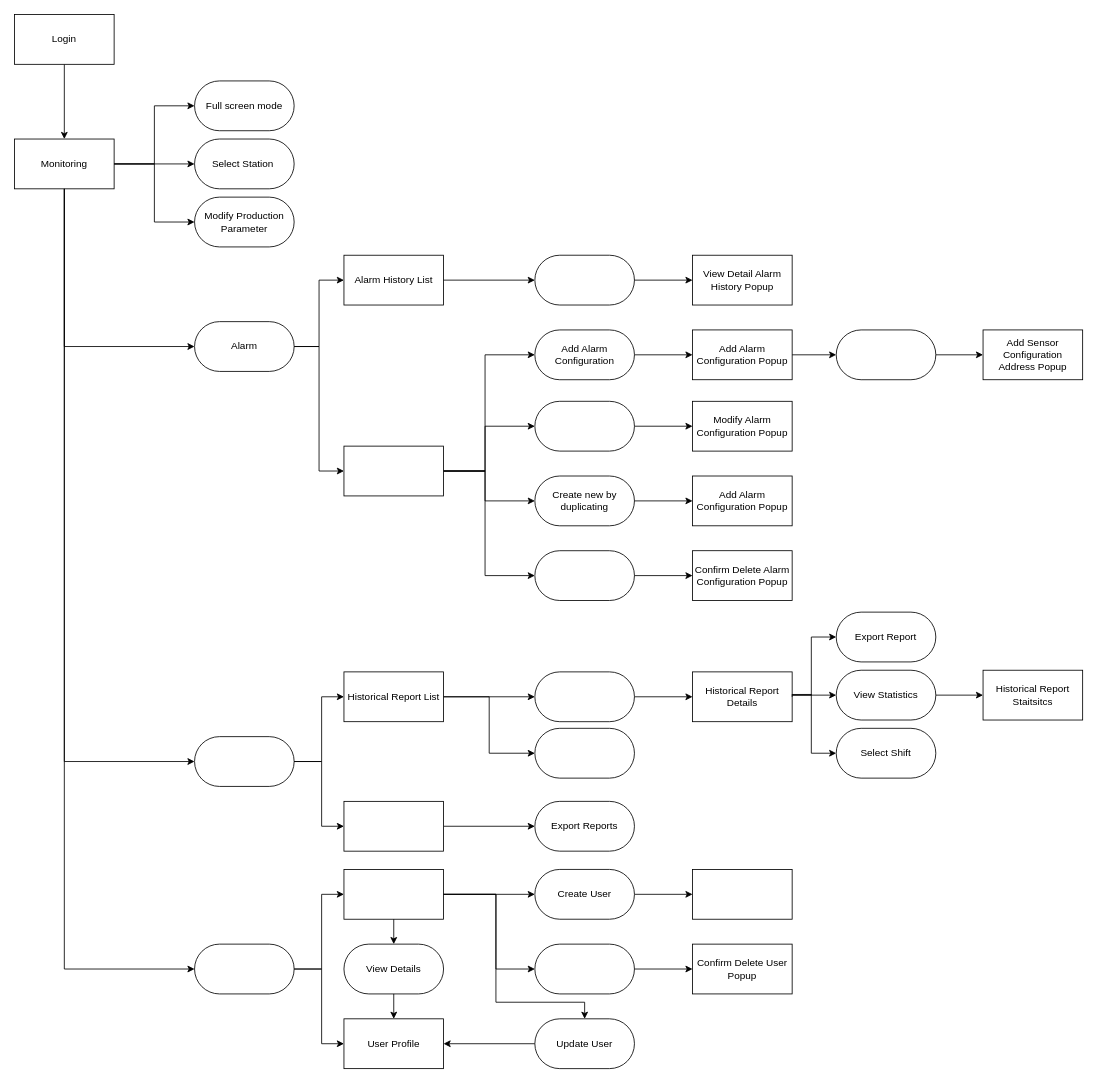
Some shapes in this 1097 by 1083 pixel diagram are drawn without their labels. The shapes that lost their labels are listed below. From the top down, each one's centre as x and y in pixels, then its label:
At point 584,279: "View Details Alarm History".
At point 885,354: "Add Sensor Configuration Address".
At point 584,425: "Update Alarm Configuration".
At point 393,470: "Alarm Configuration List".
At point 584,575: "Delete Alarm Condition".
At point 584,696: "View report".
At point 244,761: "Report".
At point 584,752: "Export Single-Report or Batch".
At point 393,826: "Historical Reports Statistics".
At point 393,894: "User List".
At point 742,894: "Create User Popup".
At point 244,968: "User".
At point 584,968: "Delete User".
